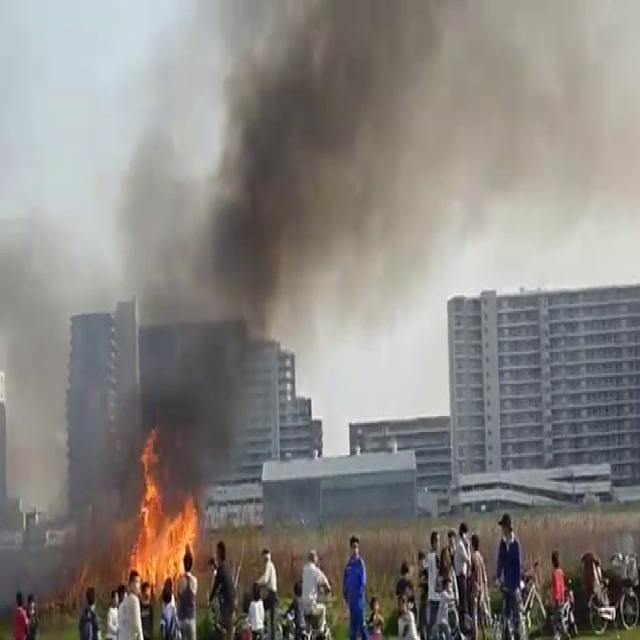Fire: (124, 432, 209, 592)
Smoke: (4, 0, 454, 519), (214, 0, 639, 268)
